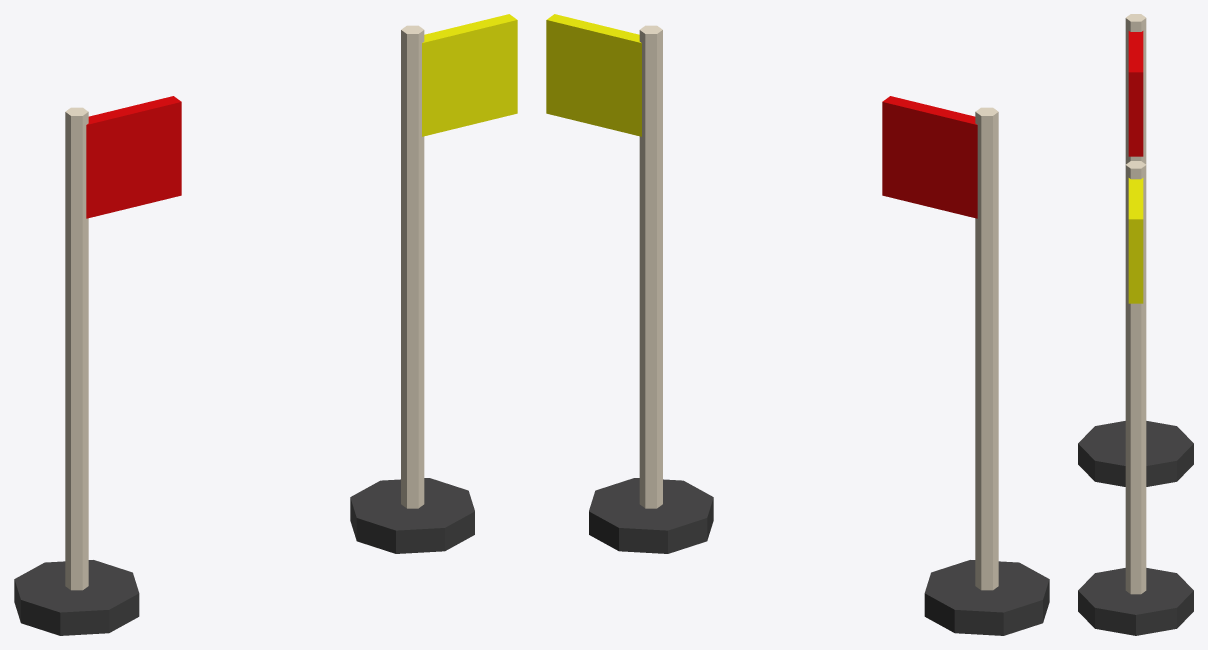
The picture shows the model from 3 angles, left to right: view 1: azimuth 30°, elevation 25°; view 2: azimuth 150°, elevation 25°; view 3: azimuth 270°, elevation 25°; orthographic projection. The views are drawn at different scales.
Visible parts, largest first — view 1: Signal pole, Signal pole.001, Signal flag, Signal flag.001, Signal base, Signal base.001; view 2: Signal pole, Signal pole.001, Signal flag, Signal flag.001, Signal base, Signal base.001; view 3: Signal pole.001, Signal base.001, Signal base, Signal flag, Signal flag.001, Signal pole.
Boxes of the visible parts, x1,y1,x2,y2 form: Signal pole: [65, 107, 88, 590]; Signal pole.001: [401, 25, 424, 508]; Signal flag: [86, 96, 181, 218]; Signal flag.001: [422, 14, 517, 136]; Signal base: [14, 560, 139, 635]; Signal base.001: [350, 478, 474, 553]; Signal pole: [975, 107, 998, 590]; Signal pole.001: [639, 25, 662, 508]; Signal flag: [882, 96, 977, 218]; Signal flag.001: [546, 14, 641, 136]; Signal base: [924, 560, 1049, 635]; Signal base.001: [589, 478, 713, 553]; Signal pole.001: [1125, 161, 1146, 594]; Signal base.001: [1078, 568, 1193, 635]; Signal base: [1078, 421, 1193, 486]; Signal flag: [1128, 31, 1143, 156]; Signal flag.001: [1128, 178, 1143, 303]; Signal pole: [1125, 14, 1146, 164].
Bounding box in the file's own units: 88 × 85 × 20.
